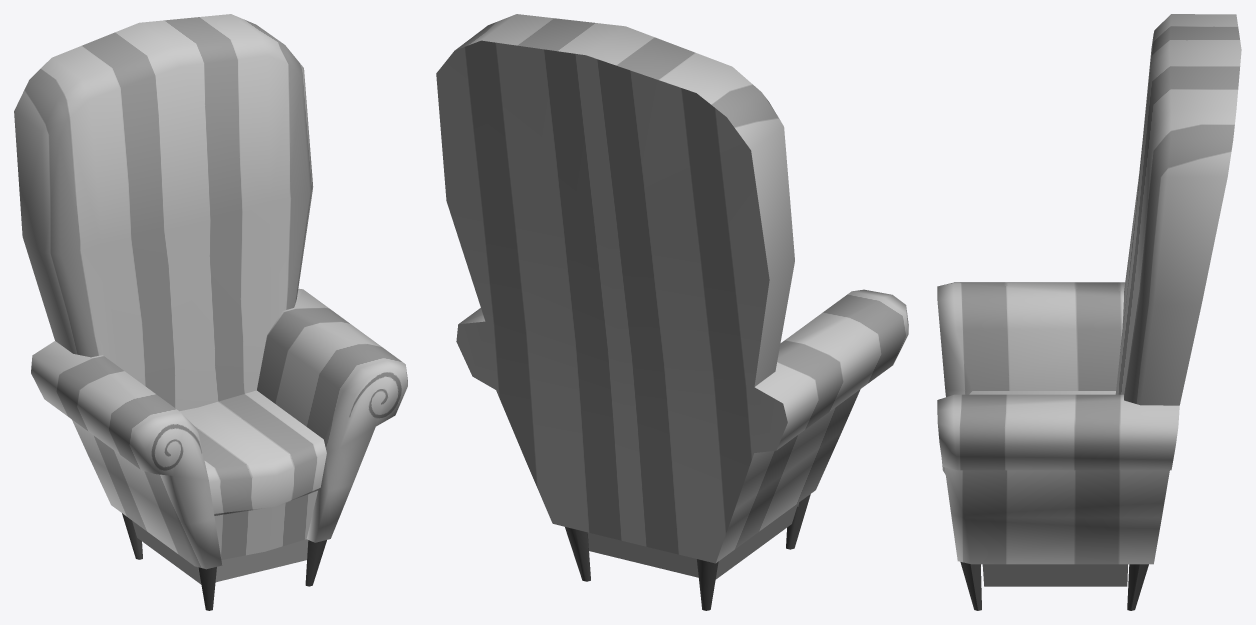
File: Armchair.FBX
The picture shows the model from 3 angles, left to right: view 1: azimuth 30°, elevation 25°; view 2: azimuth 150°, elevation 25°; view 3: azimuth 270°, elevation 25°; orthographic projection. The views are drawn at different scales.
Parts seen in each view (by area): view 1: armchair; view 2: armchair; view 3: armchair.
Part boxes in pixels (<box>): armchair: <box>14,14,407,610</box>; armchair: <box>436,14,908,610</box>; armchair: <box>937,14,1241,610</box>.
Bounding box in the file's own units: 3.97 × 6.68 × 3.46.
